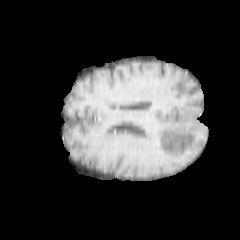glioma: (144, 128, 199, 157)
